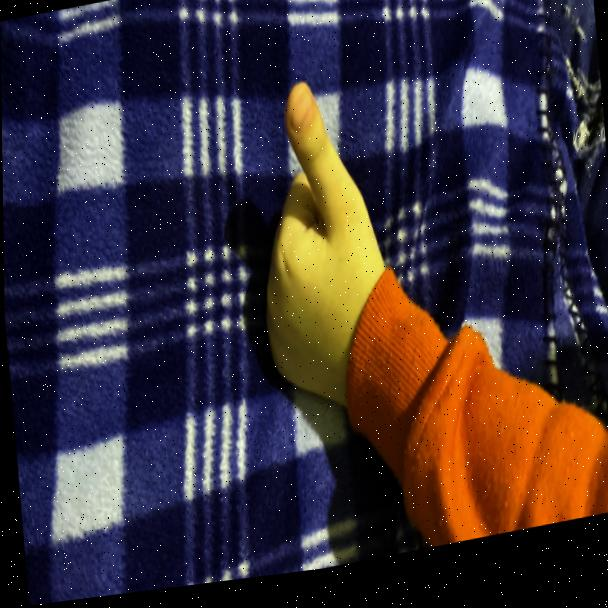five: (231, 59, 415, 445)
